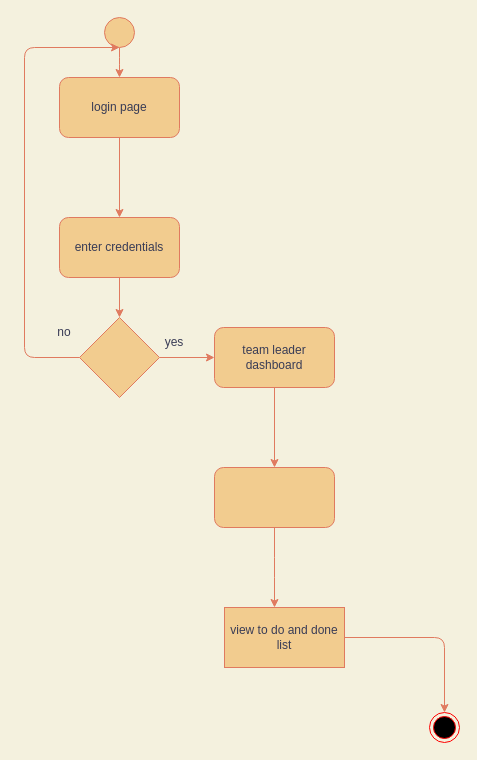
This 477x760 diagram has some shape labels left out. Each missing label, with the centre of its shape:
access tasks: point (274, 497)
correct: point (119, 357)
